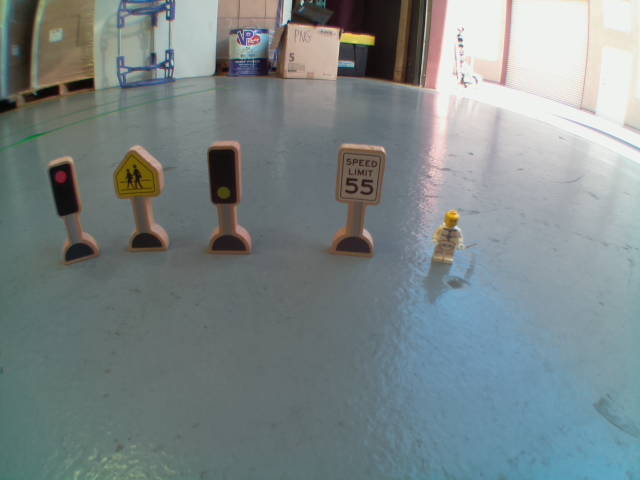Green Traffic Light: (202, 142, 243, 206)
Red Traffic Light: (43, 158, 84, 217)
Speed Limit 55: (333, 144, 386, 206)
YIELD: (106, 145, 167, 202)
person: (429, 205, 470, 268)
